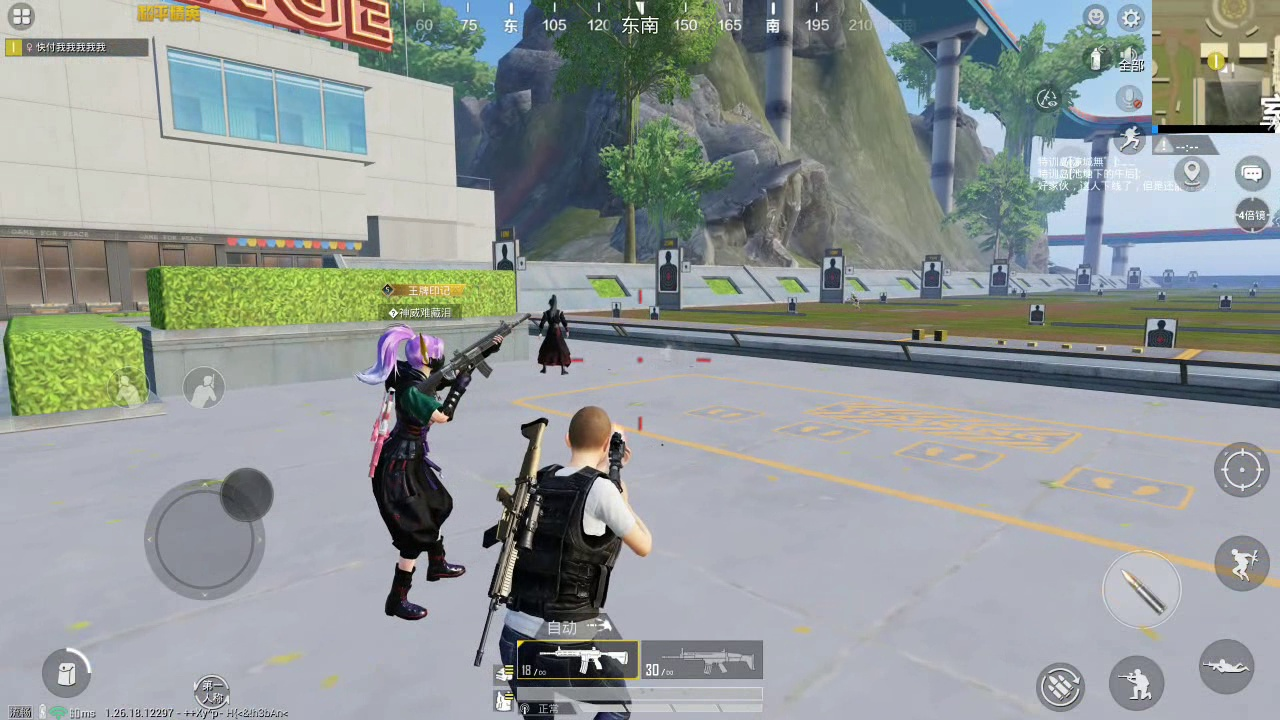enemy: (368, 327, 466, 611), (537, 295, 574, 378)
